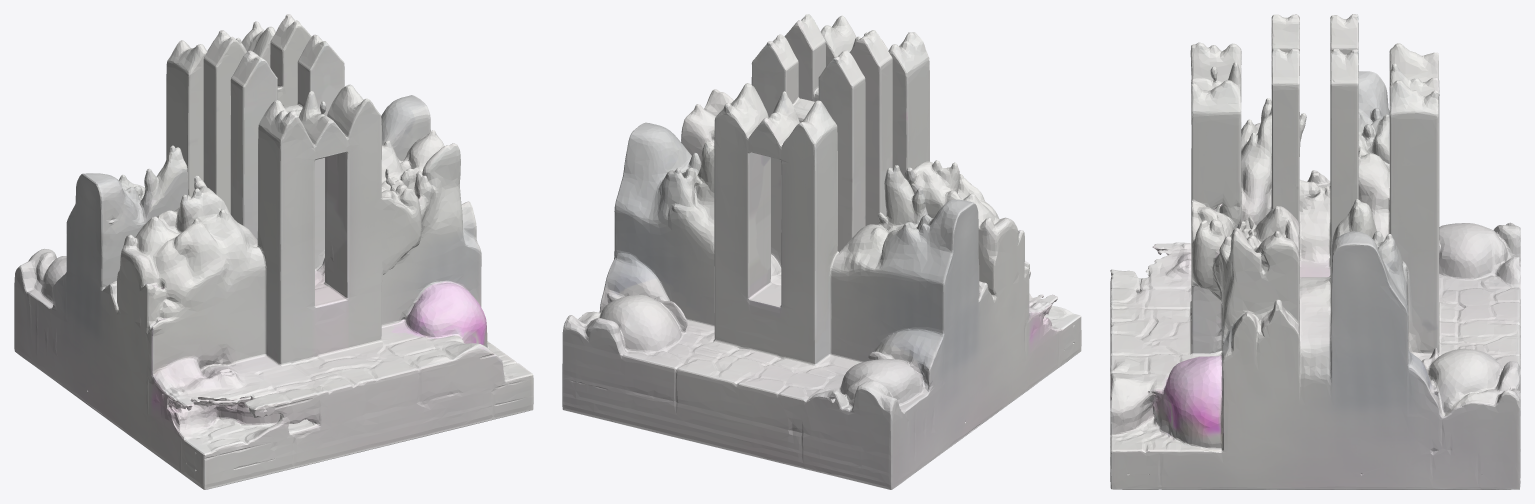
Rendered from bifrost-approach-generated-2026-05-17T17-48-49-995Z.glb.
3 views of the same model, side by side, from view 1: azimuth 30°, elevation 25°; view 2: azimuth 150°, elevation 25°; view 3: azimuth 270°, elevation 25° (orthographic). The views are drawn at different scales.
Parts seen in each view (by area): view 1: temp_mesh.ply; view 2: temp_mesh.ply; view 3: temp_mesh.ply.
Part boxes in pixels (x1,y1,x2,y2): temp_mesh.ply: [14, 14, 533, 489]; temp_mesh.ply: [562, 14, 1081, 489]; temp_mesh.ply: [1110, 14, 1520, 489].
Bounding box in the file's own units: 1.98 × 1.97 × 1.98.
Materials: 1 (1 with a texture image).
